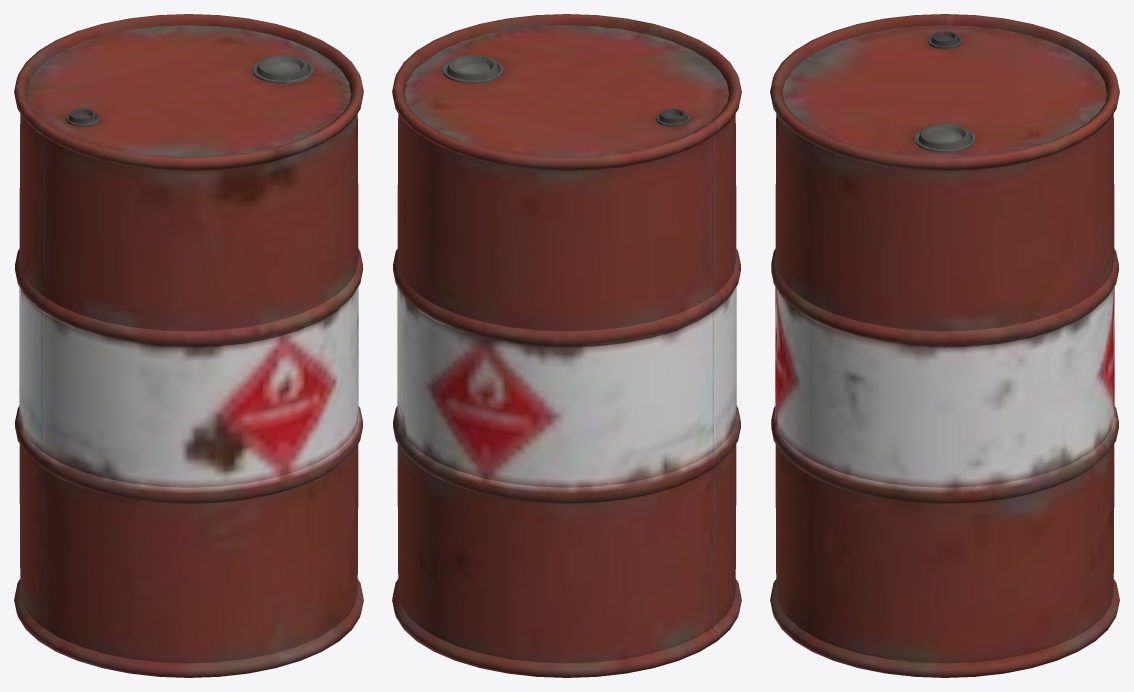
The model's file is SM_barrel1_46e2de.glb.
The picture shows the model from 3 angles, left to right: view 1: azimuth 30°, elevation 25°; view 2: azimuth 150°, elevation 25°; view 3: azimuth 270°, elevation 25°; orthographic projection.
Bounding box in the file's own units: 0.5572 × 0.9144 × 0.5571.
Materials: 1 (1 with a texture image).
